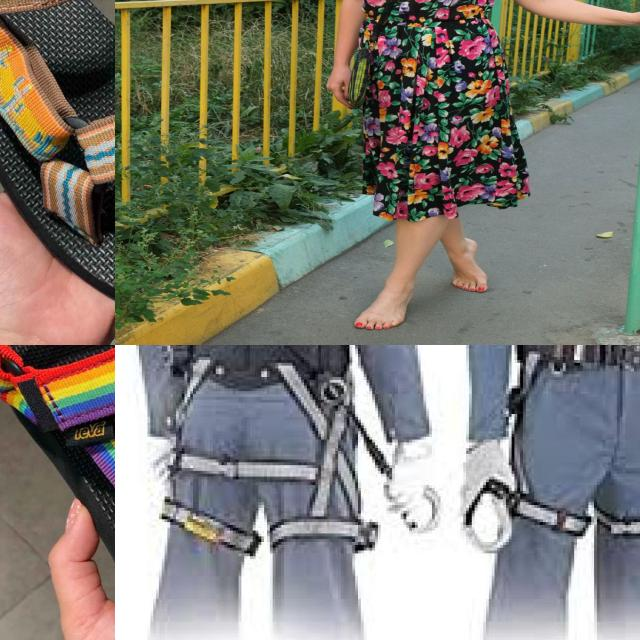Barefoots: (354, 282, 414, 330), (451, 238, 488, 292)
Harness: (153, 345, 383, 559), (499, 345, 640, 553)
Sandals: (0, 0, 115, 345), (0, 345, 115, 640)
